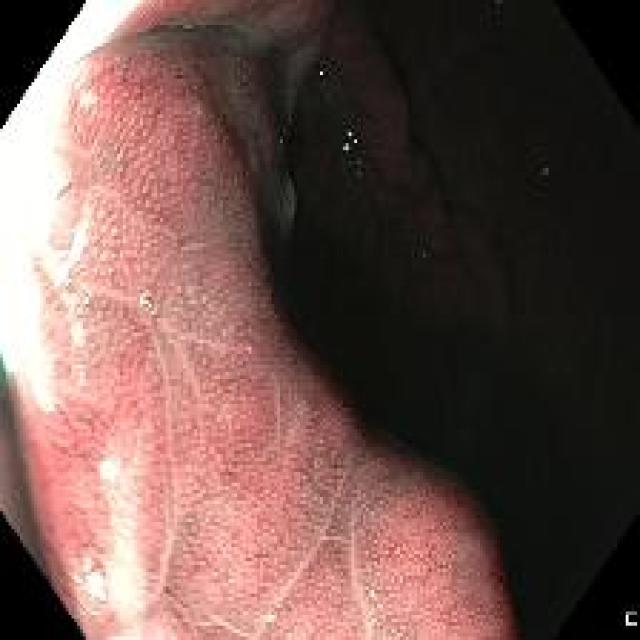bubbles: (138, 289, 157, 320), (412, 241, 428, 264)
contrast: (263, 9, 636, 633)
saturation: (1, 0, 138, 411), (77, 435, 161, 621)
specularity: (339, 123, 360, 160), (139, 293, 154, 315), (365, 585, 381, 604), (314, 64, 327, 85), (264, 607, 280, 624), (538, 162, 553, 180), (353, 167, 367, 181)
